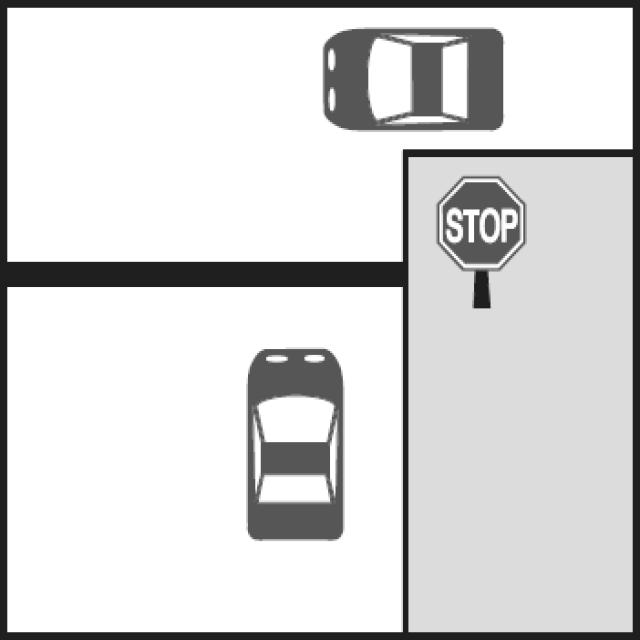stop: (432, 171, 532, 270)
